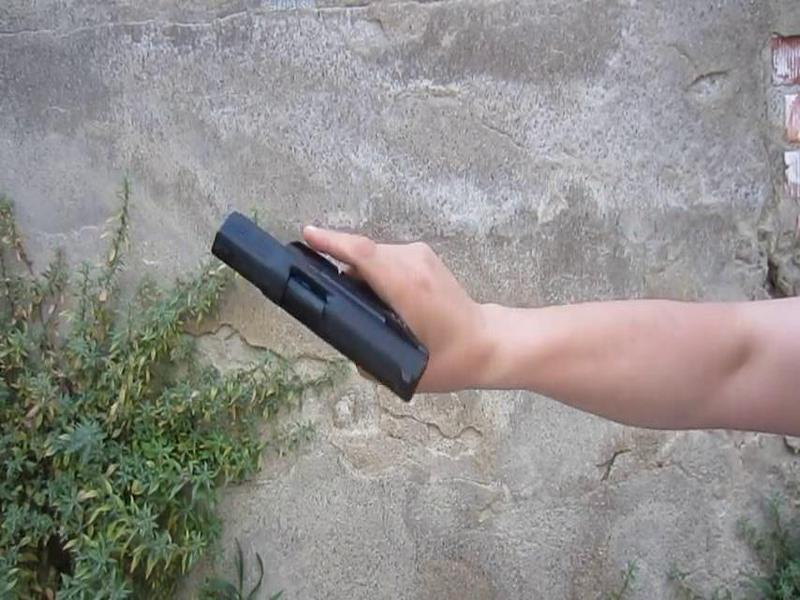Pistola: (191, 191, 444, 419)
